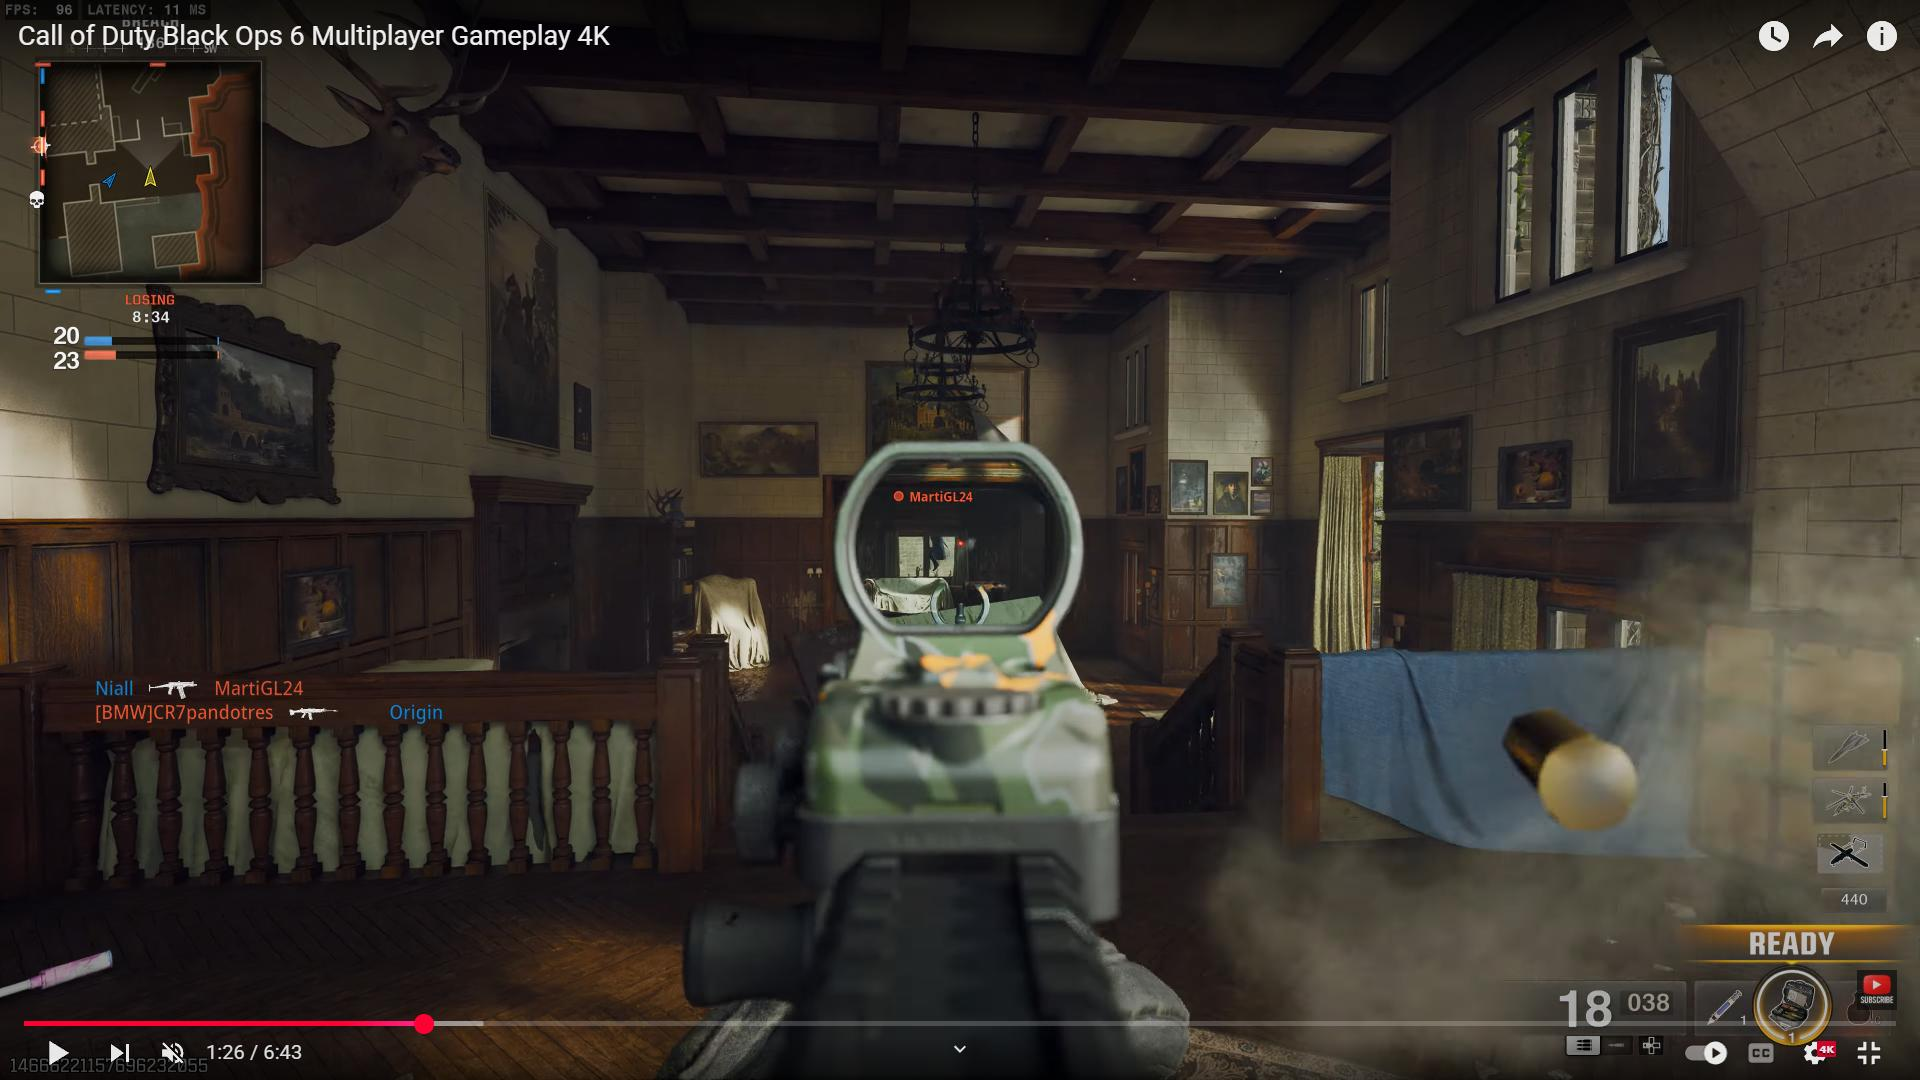Enemy: (926, 535, 949, 578)
